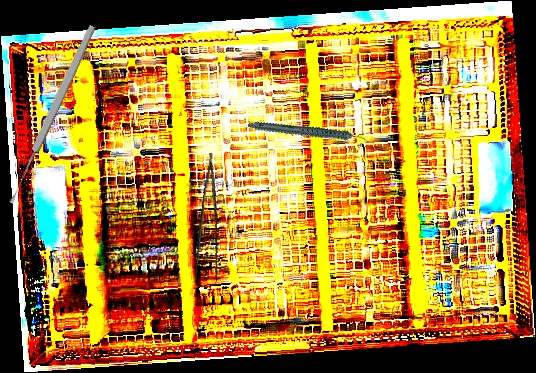Handpiece: (247, 97, 370, 169)
Surgical Spoon: (5, 23, 98, 206)
Tissue Forceps: (190, 152, 235, 289)
